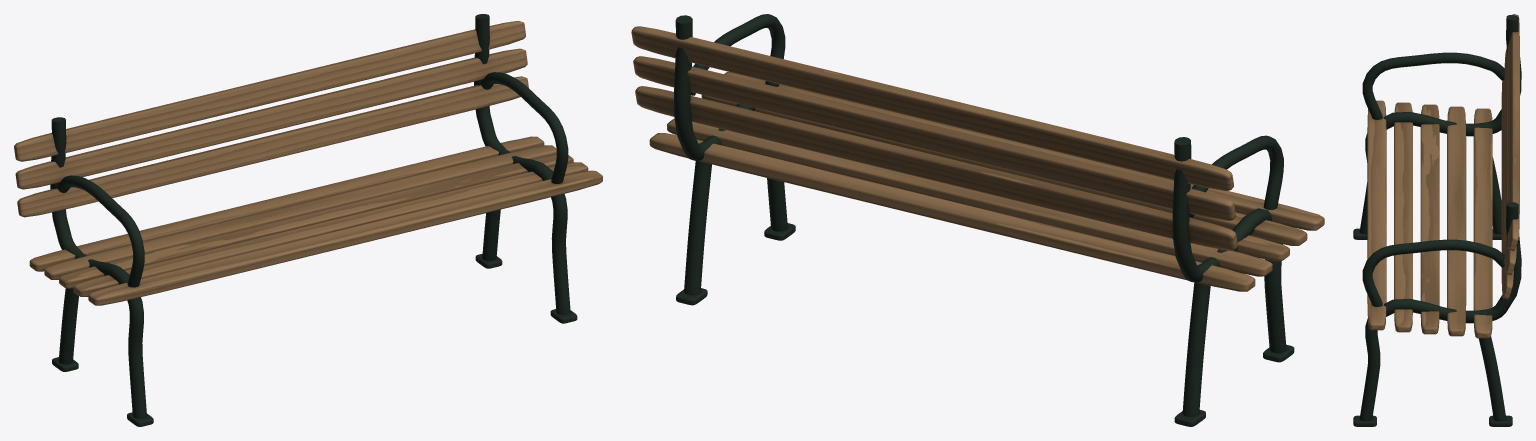
File: park-cast-iron.glb
3 renders of one model, left to right at view 1: azimuth 30°, elevation 25°; view 2: azimuth 150°, elevation 25°; view 3: azimuth 270°, elevation 25°, orthographic. The views are drawn at different scales.
Parts seen in each view (by area): view 1: wood_h, paint_primary; view 2: wood_h, paint_primary; view 3: wood_h, paint_primary.
Part boxes in pixels (left/top/right/bottom): wood_h: left=14, top=21, right=602, bottom=305; paint_primary: left=50, top=14, right=577, bottom=426; wood_h: left=631, top=26, right=1324, bottom=291; paint_primary: left=674, top=14, right=1294, bottom=426; wood_h: left=1367, top=14, right=1519, bottom=338; paint_primary: left=1353, top=15, right=1521, bottom=426.
Size of the model in its own units: 1.8 by 0.8253 by 0.5701.
Materials: 2 (2 with a texture image).
